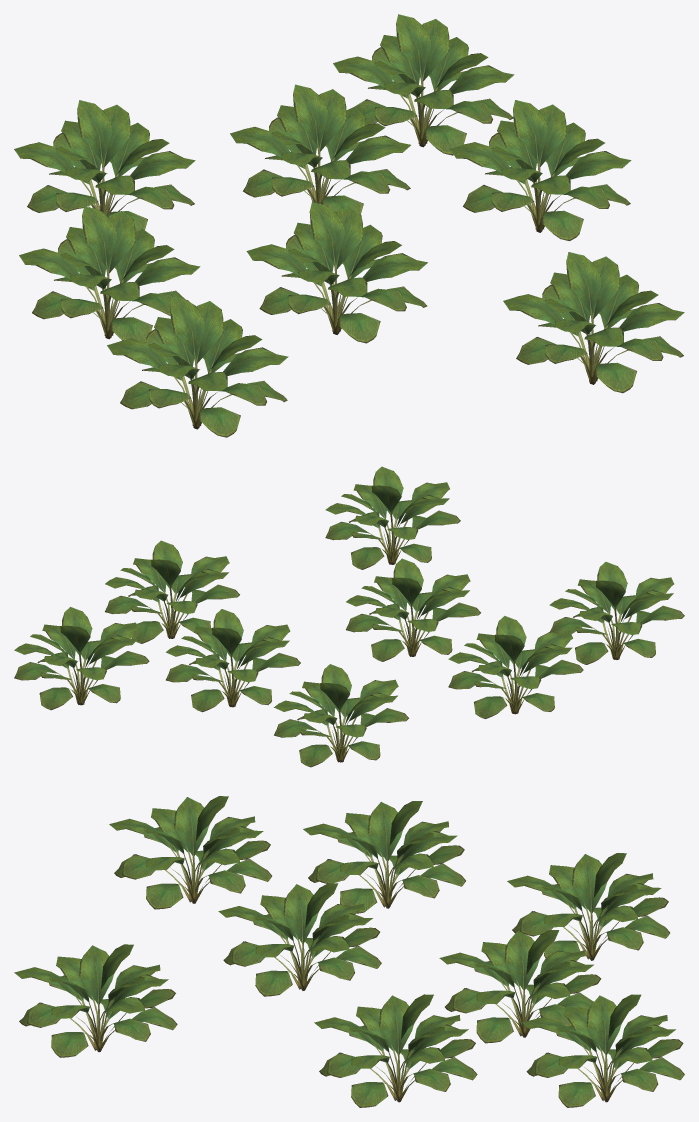
File: Grass8.fbx
3 renders of one model, top to bottom at view 1: azimuth 30°, elevation 25°; view 2: azimuth 150°, elevation 25°; view 3: azimuth 270°, elevation 25°, orthographic. The views are drawn at different scales.
Parts seen in each view (by area): view 1: LV_Gnollando_Foliage_TropicalBush02_PM_NWCEVA.001; view 2: LV_Gnollando_Foliage_TropicalBush02_PM_NWCEVA.001; view 3: LV_Gnollando_Foliage_TropicalBush02_PM_NWCEVA.001.
Part boxes in pixels (x1,y1,x2,y2): LV_Gnollando_Foliage_TropicalBush02_PM_NWCEVA.001: (14,14,684,437); LV_Gnollando_Foliage_TropicalBush02_PM_NWCEVA.001: (14,466,684,767); LV_Gnollando_Foliage_TropicalBush02_PM_NWCEVA.001: (14,796,684,1107).
Size of the model in its own units: 9.82 by 1.94 by 10.85.
Materials: 8 (8 with a texture image).
